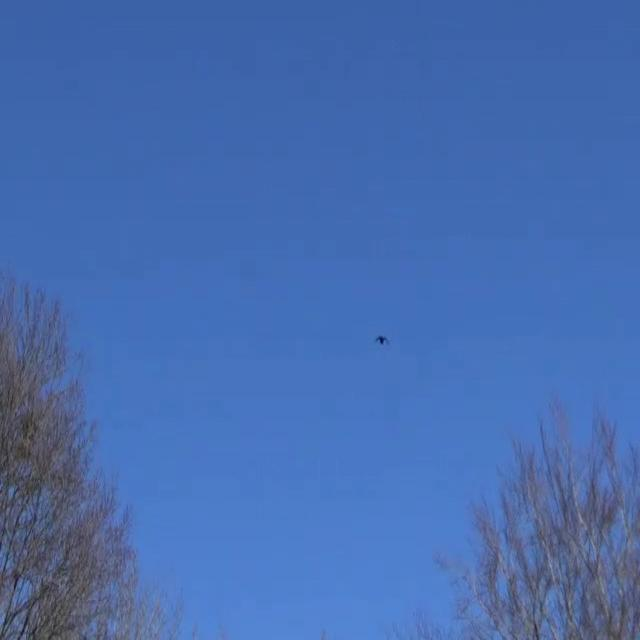bird: (374, 329, 393, 349)
